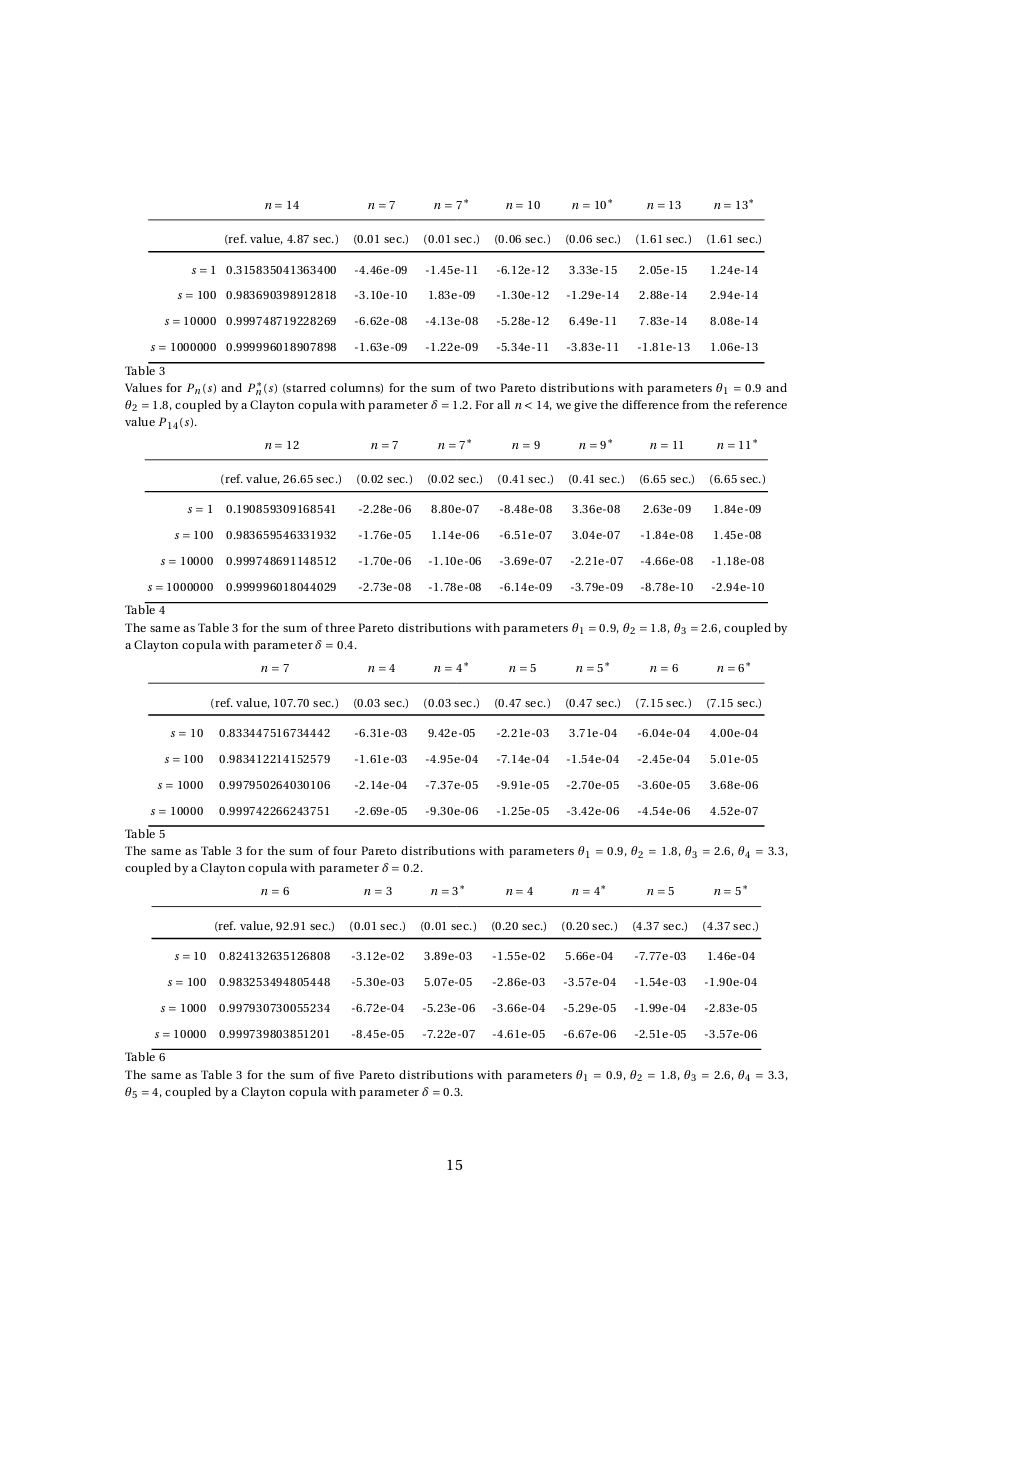Table: (125, 199, 764, 375), (125, 662, 764, 838), (125, 439, 767, 614), (125, 885, 761, 1060)
